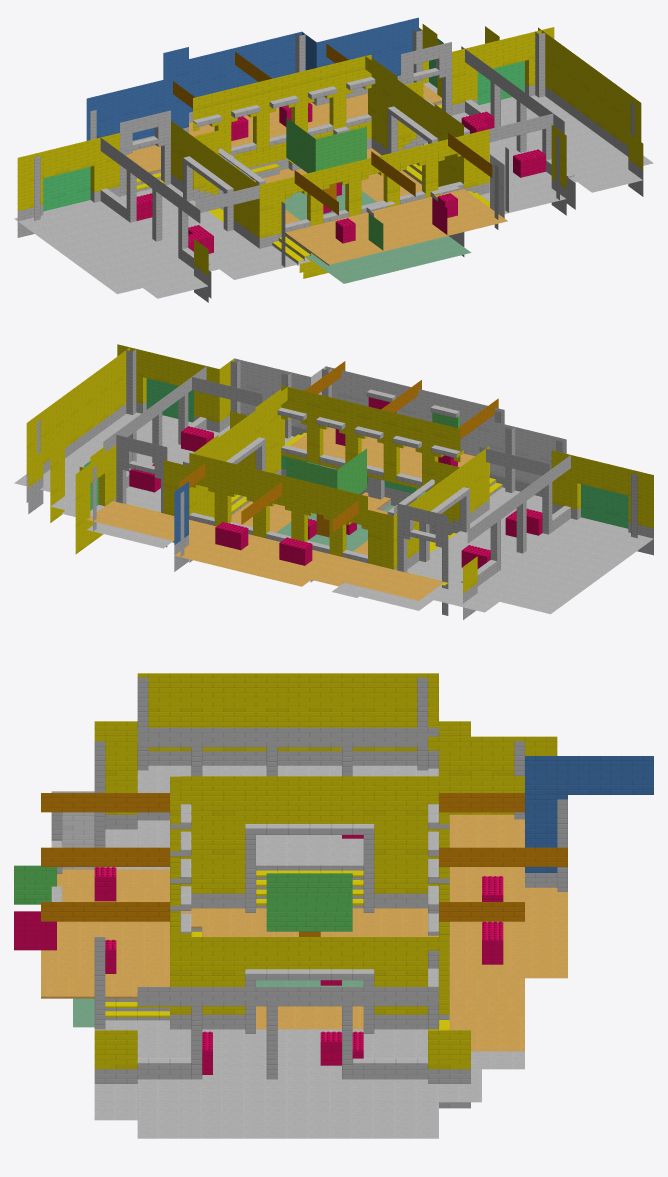
File: Museum Bricks.glb
3 renders of one model, top to bottom at view 1: azimuth 30°, elevation 25°; view 2: azimuth 150°, elevation 25°; view 3: azimuth 270°, elevation 25°, orthographic. The views are drawn at different scales.
Visible parts, largest first — view 1: Museum Bricks; view 2: Museum Bricks; view 3: Museum Bricks.
Boxes of the visible parts, x1=… form: Museum Bricks: x1=14, y1=17, x2=653, y2=302; Museum Bricks: x1=14, y1=344, x2=653, y2=619; Museum Bricks: x1=14, y1=673, x2=653, y2=1138.
Bounding box in the file's own units: 42 × 11.1 × 29.75.
Materials: 26 (26 with a texture image).
